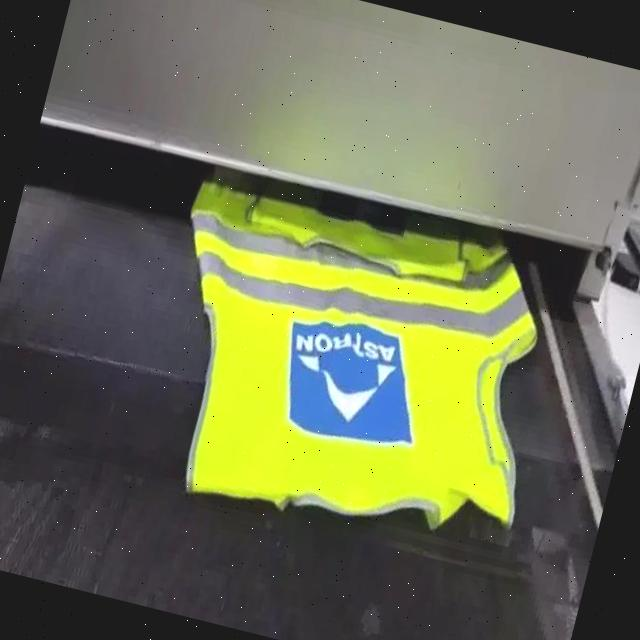vest: (122, 170, 584, 576)
